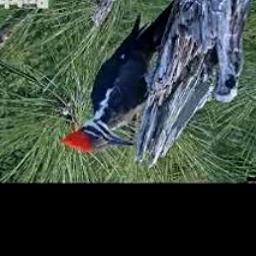Woodpecker: (61, 0, 178, 153)
